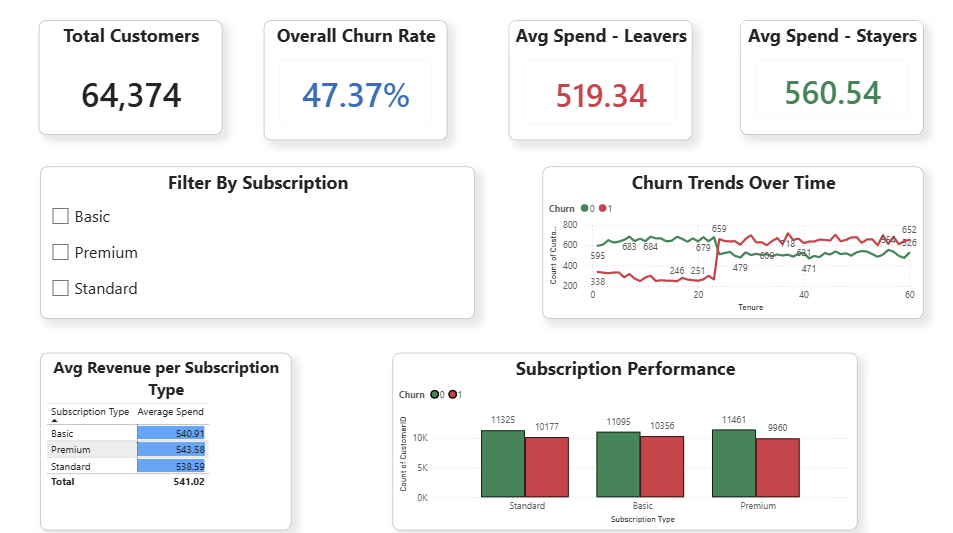

What the dashboard file says about the page in this screenshot:
{"tool":"powerbi","page":{"name":"Page 1","canvas":[1280,720],"ordinal":0},"visuals":[{"type":"cardVisual","title":"Total Customers","fields":{"Data":["Count(customer_churn_dataset-testing-.CustomerID)"]},"box":[57.5,27.5,245,152.5],"z":0},{"type":"cardVisual","title":"Overall Churn Rate","fields":{"Data":["customer_churn_dataset-testing-.Churn Rate"]},"box":[357.5,27.5,245,160],"z":1000},{"type":"slicer","title":"Filter By Subscription","fields":{"Values":["customer_churn_dataset-testing-.Subscription Type"]},"box":[60,223.3,580,203.3],"z":2000},{"type":"cardVisual","title":"Avg Spend - Stayers","fields":{"Data":["Avg(customer_churn_dataset-testing-.Total Spend)"]},"box":[992.5,27.5,245,152.5],"z":3000},{"type":"cardVisual","title":"Avg Spend - Leavers","fields":{"Data":["Avg(customer_churn_dataset-testing-.Total Spend)"]},"box":[685,27.5,245,160],"z":4000},{"type":"tableEx","title":"Avg Revenue per Subscription Type","fields":{"Values":["customer_churn_dataset-testing-.Subscription Type","customer_churn_dataset-testing-.Average Spend"]},"box":[60,471.7,335,236.7],"z":5000},{"type":"clusteredColumnChart","title":"Subscription Performance","fields":{"Category":["customer_churn_dataset-testing-.Subscription Type"],"Y":["Count(customer_churn_dataset-testing-.CustomerID)"],"Series":["customer_churn_dataset-testing-.Churn"]},"box":[530,471.7,620,236.7],"z":6000},{"type":"lineChart","title":"Churn Trends Over Time","fields":{"Category":["customer_churn_dataset-testing-.Tenure"],"Y":["CountNonNull(customer_churn_dataset-testing-.CustomerID)"],"Series":["customer_churn_dataset-testing-.Churn"]},"box":[730,223.3,508.3,203.3],"z":6001}]}

Visuals, with their boxes in screenshot pixels (x1, y1, x2, y2), scaled from the page's 1280x720 canvas onto the 953x533 screenshot:
"Total Customers" cardVisual: 43:20:225:133
"Overall Churn Rate" cardVisual: 266:20:449:139
"Filter By Subscription" slicer: 45:165:476:316
"Avg Spend - Stayers" cardVisual: 739:20:921:133
"Avg Spend - Leavers" cardVisual: 510:20:692:139
"Avg Revenue per Subscription Type" tableEx: 45:349:294:524
"Subscription Performance" clusteredColumnChart: 395:349:856:524
"Churn Trends Over Time" lineChart: 544:165:922:316
